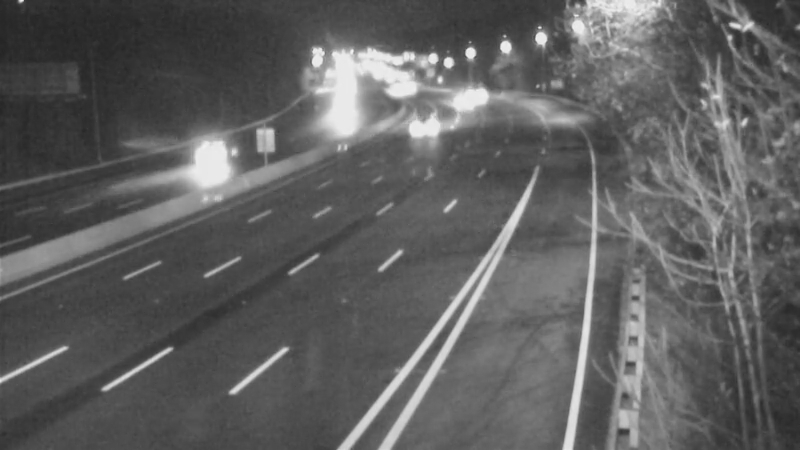vehicle: (170, 117, 250, 197), (402, 104, 452, 154), (441, 75, 491, 125)
